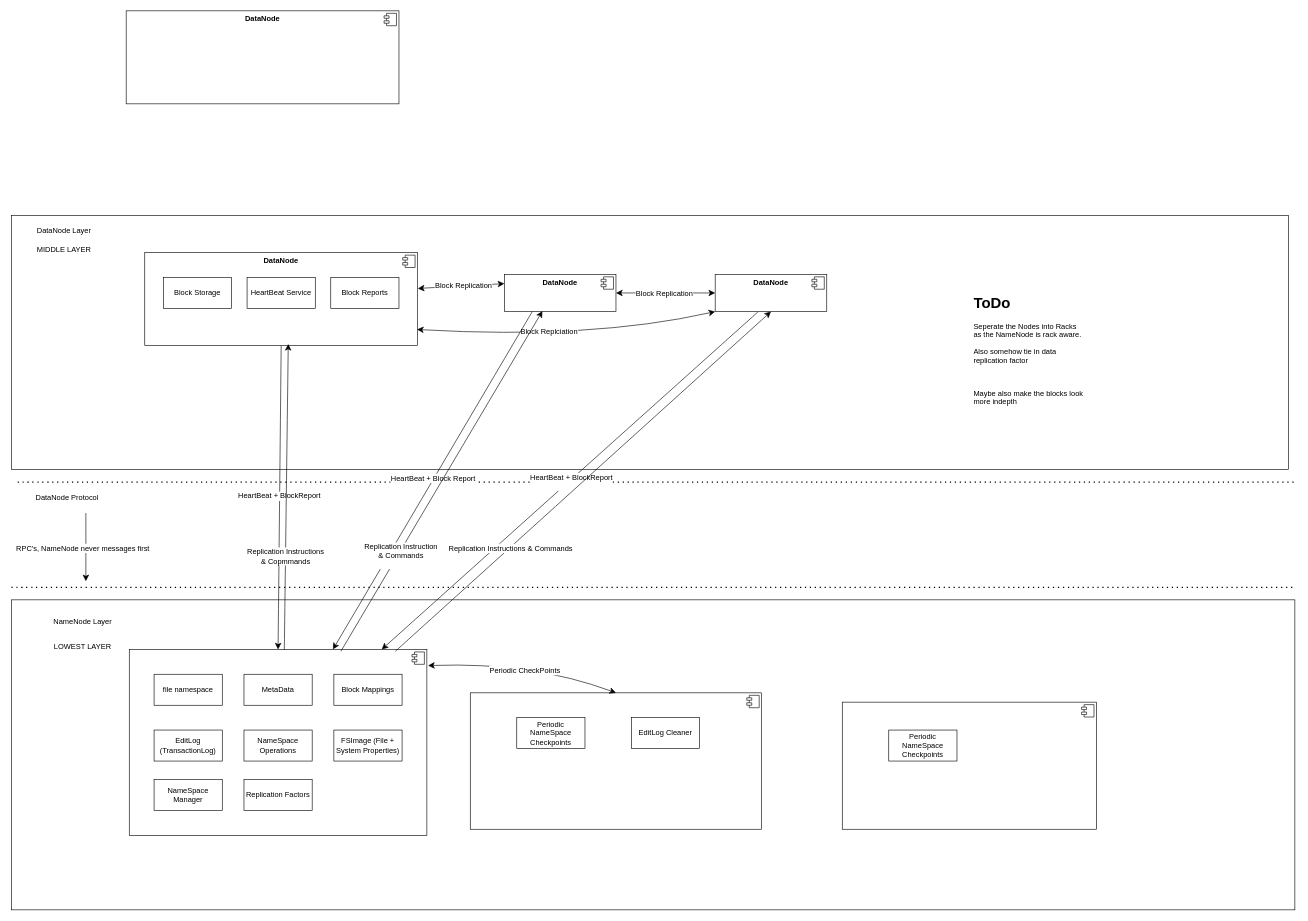
Some shapes in this 1308 by 921 pixel diagram are drawn without their labels. Each missing label, with the box of its shape:
Backup NameNode (only One, means no Checkpoint Nodes): (470, 692, 762, 829)
CheckPoint Node(only if no backup Nodes): (842, 702, 1096, 829)
NameNode: (129, 649, 427, 835)
